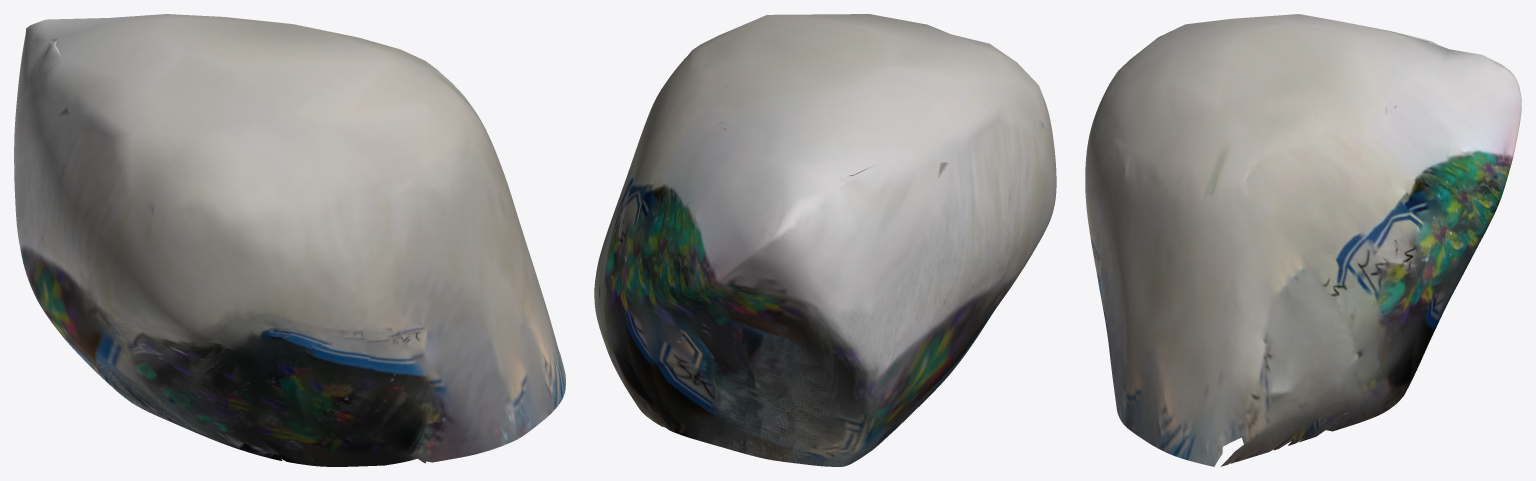
The picture shows the model from 3 angles, left to right: view 1: azimuth 30°, elevation 25°; view 2: azimuth 150°, elevation 25°; view 3: azimuth 270°, elevation 25°; orthographic projection. The views are drawn at different scales.
Bounding box in the file's own units: 0.1639 × 0.1301 × 0.1665.
Materials: 1 (1 with a texture image).
